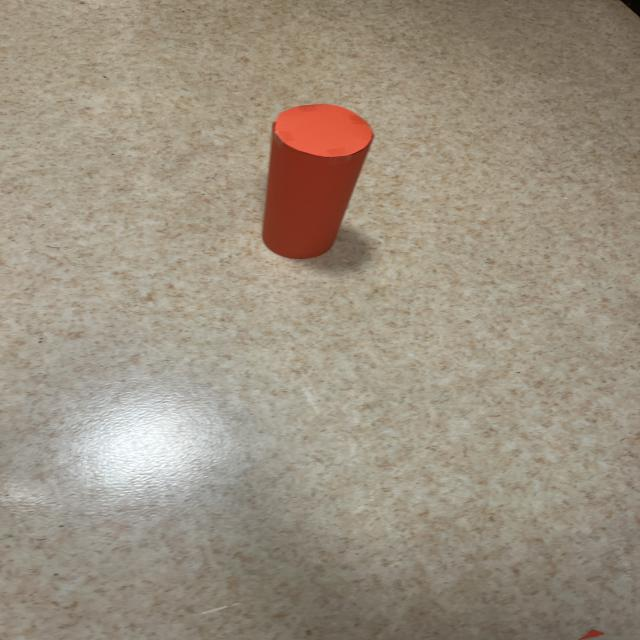przeszkoda: (262, 104, 373, 259)
